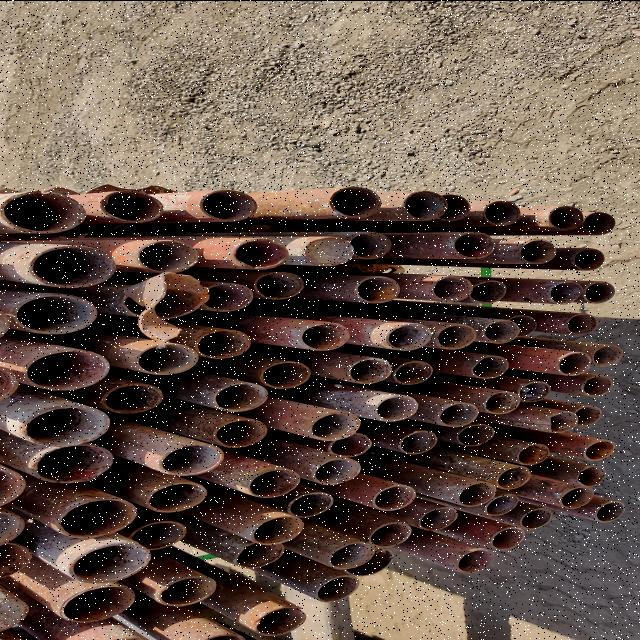pipe: (63, 540, 158, 584), (18, 406, 114, 448), (53, 496, 142, 540), (23, 347, 113, 390), (26, 245, 116, 288), (12, 291, 98, 335), (0, 190, 90, 232), (29, 444, 120, 485), (120, 278, 209, 318), (55, 584, 141, 624), (155, 442, 229, 477), (132, 240, 206, 274), (150, 574, 222, 608), (141, 480, 209, 516), (132, 342, 202, 376), (98, 188, 166, 222), (196, 188, 264, 222), (122, 518, 192, 550), (98, 382, 168, 414), (207, 380, 275, 412), (231, 236, 291, 271), (190, 328, 256, 359), (210, 416, 273, 448), (246, 514, 306, 547), (249, 604, 310, 636), (309, 455, 370, 487), (198, 280, 258, 312), (326, 186, 384, 219), (247, 467, 305, 499), (301, 236, 357, 269), (232, 540, 292, 570), (305, 410, 365, 440), (326, 540, 382, 570), (258, 358, 314, 388), (344, 546, 398, 576), (298, 321, 352, 351), (369, 392, 422, 422), (310, 572, 362, 602), (254, 270, 308, 298), (448, 230, 502, 258), (386, 321, 436, 351), (348, 228, 394, 260), (284, 491, 338, 518), (404, 190, 452, 220), (370, 482, 420, 510), (354, 275, 402, 304), (324, 432, 378, 456), (514, 238, 562, 265), (346, 357, 394, 384), (366, 520, 414, 546), (394, 428, 442, 454), (431, 274, 475, 302), (434, 322, 478, 350), (482, 198, 524, 226), (455, 546, 497, 574), (416, 505, 461, 531), (434, 401, 480, 426), (544, 204, 584, 232), (480, 318, 522, 344), (456, 481, 498, 507), (392, 360, 436, 384), (436, 192, 471, 222), (468, 354, 511, 378), (467, 278, 509, 302), (454, 423, 496, 447), (481, 391, 523, 414), (556, 485, 596, 509), (554, 351, 592, 376), (482, 493, 522, 516), (570, 247, 608, 271), (546, 280, 584, 304), (494, 466, 532, 490), (490, 526, 528, 550), (592, 499, 628, 524), (519, 506, 556, 530), (516, 442, 552, 466), (580, 439, 618, 461), (516, 380, 552, 403), (544, 410, 580, 433), (584, 210, 618, 234), (564, 312, 600, 334), (580, 374, 616, 396), (582, 280, 616, 303), (590, 345, 624, 367), (574, 464, 608, 486), (573, 404, 605, 426), (510, 314, 538, 338)
